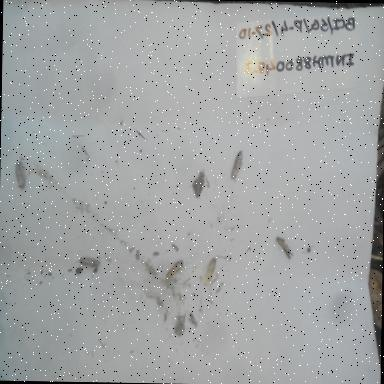pbw: (274, 228, 296, 262), (12, 158, 30, 193), (230, 149, 248, 183), (166, 257, 186, 283), (76, 252, 103, 271), (202, 256, 218, 285), (192, 170, 206, 201)
